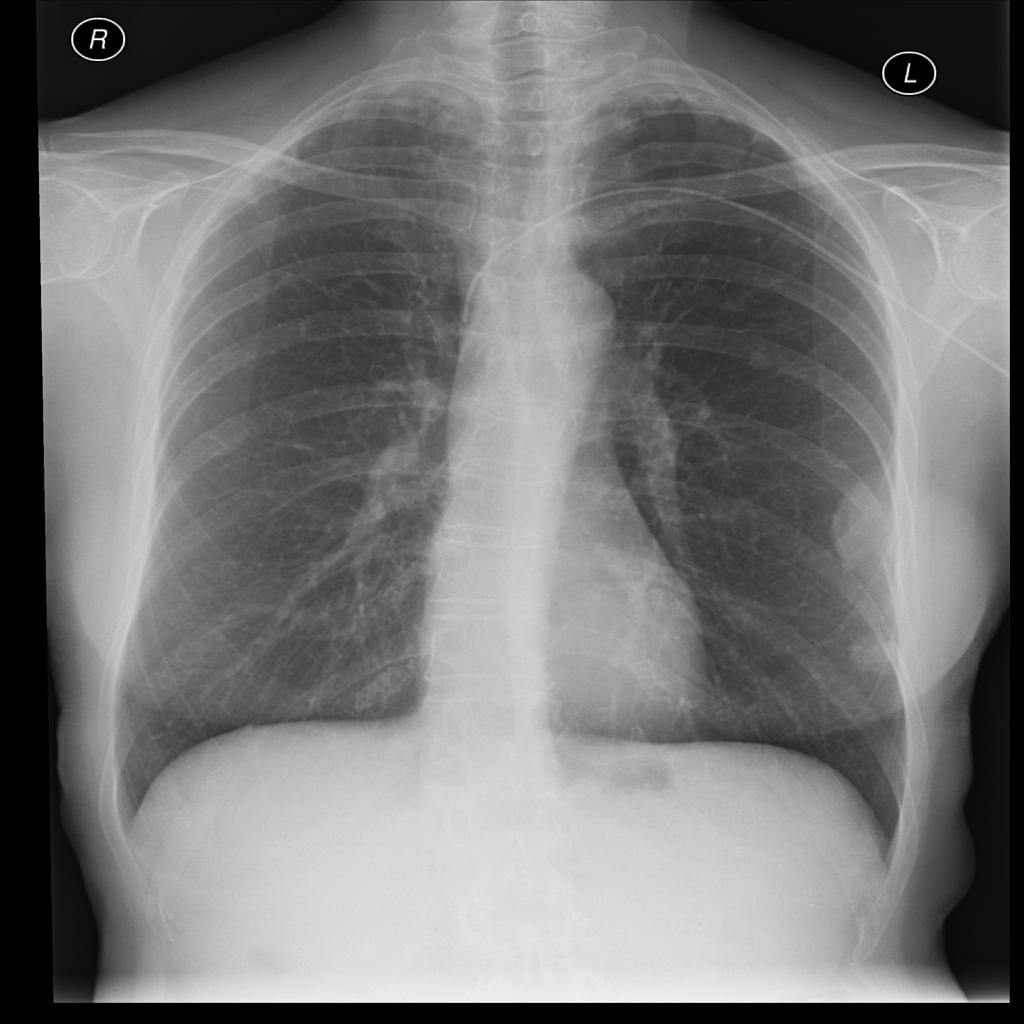nodule: (811, 461, 925, 591), (835, 618, 910, 686), (738, 333, 790, 381)
